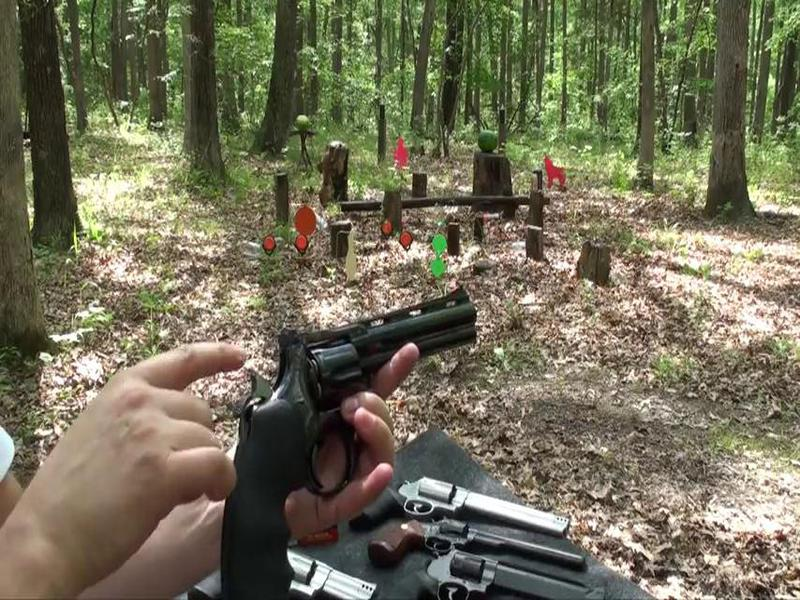Revolver: (183, 289, 508, 600)
